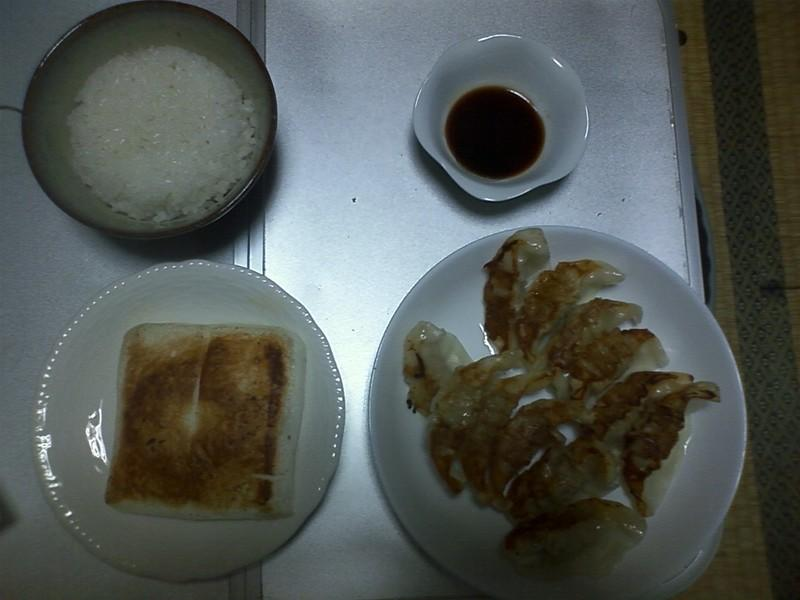plate: (30, 10, 271, 231)
rice: (66, 46, 257, 223)
